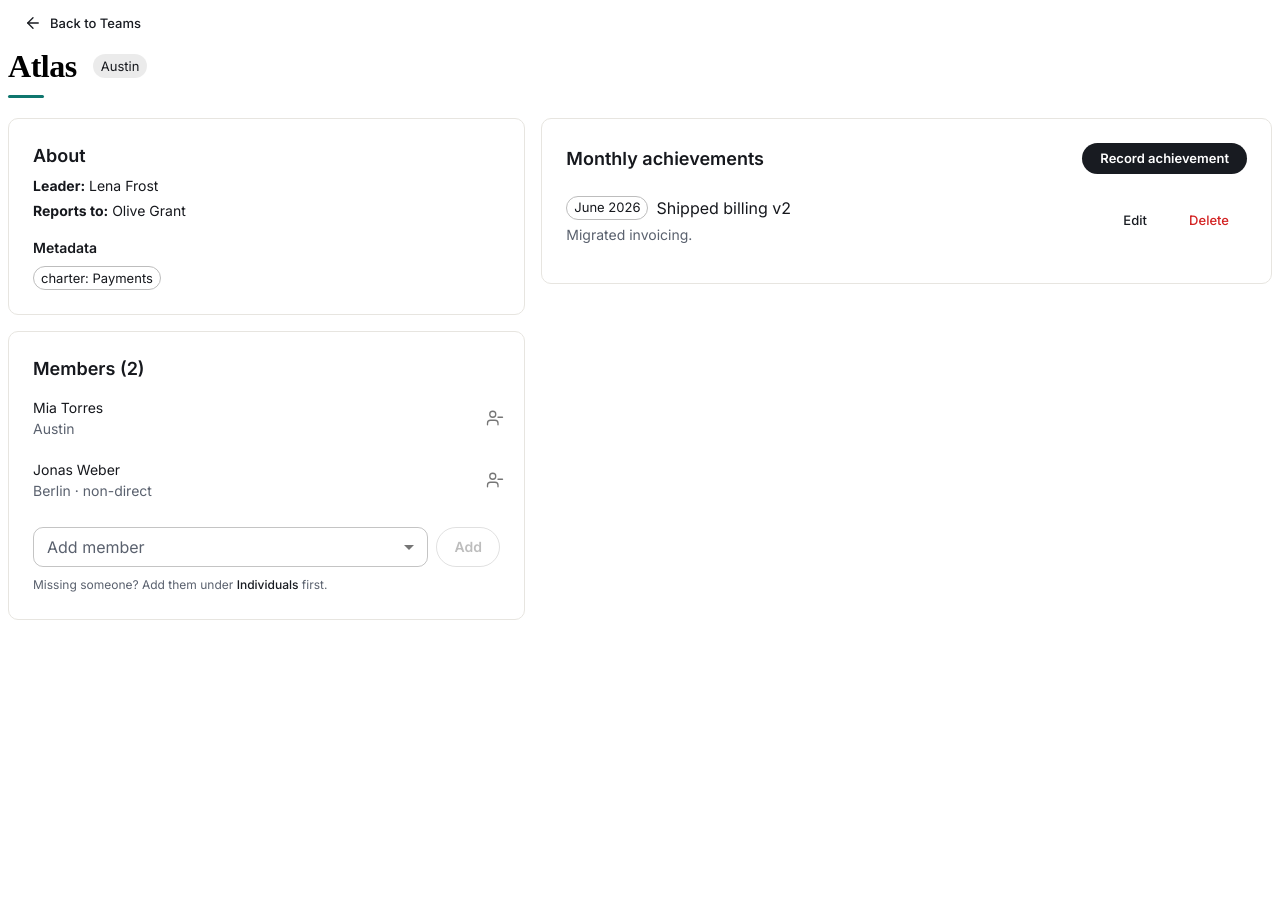
Scenario: TeamDetails page › adds a member picked from individuals not already on the roster
Expected: the heading "Atlas" is shown, [8, 47, 77, 85]
What coordinates should you click on to do the following:
click the dropdown named "Add member"
I would click on:
 (231, 547)
Its box is [33, 527, 428, 567].
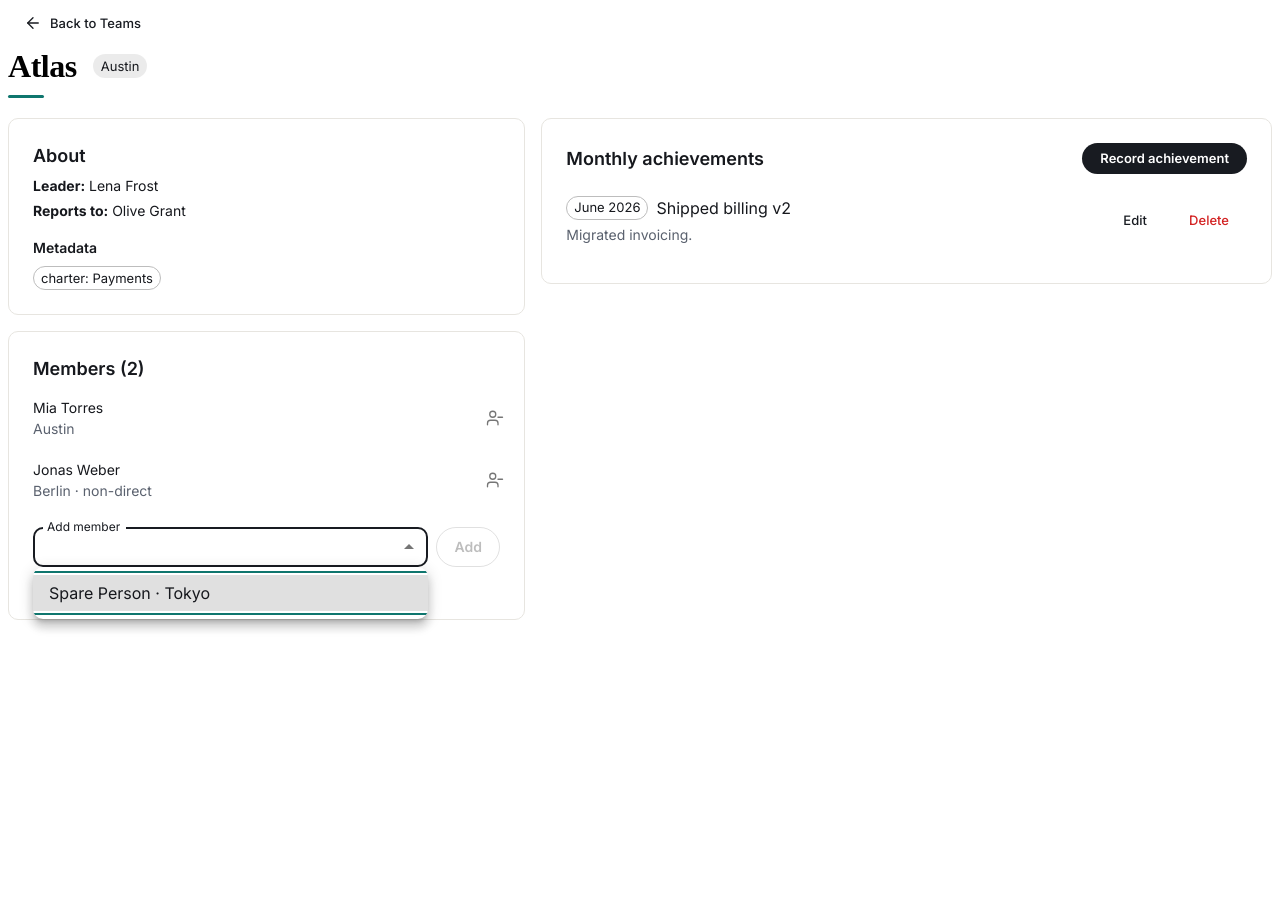
What coordinates should you click on to do the following:
click the option "Spare Person · Tokyo"
I would click on:
 (100, 593)
Its box is [33, 575, 428, 611].
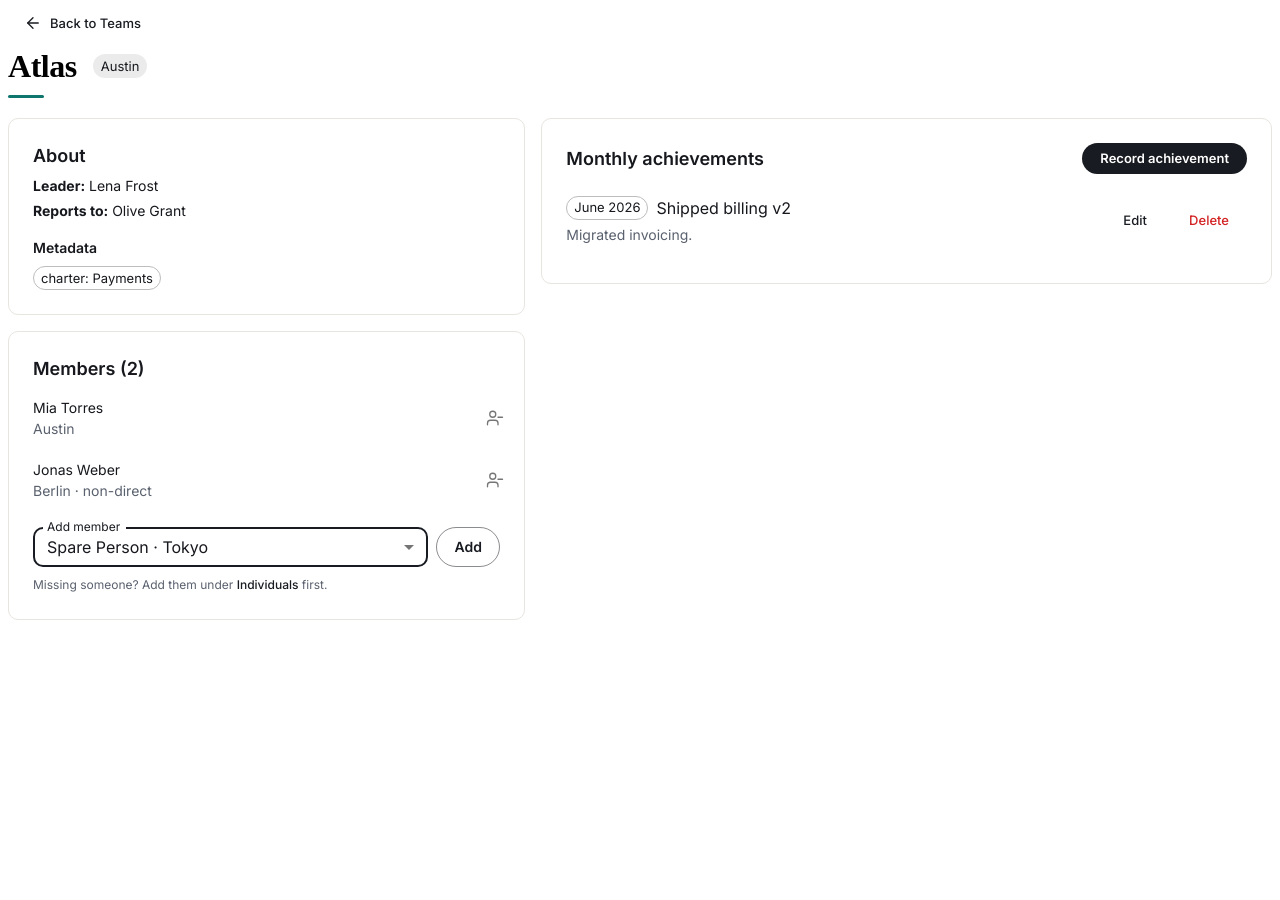
What coordinates should you click on to do the following:
click the button "Add"
I would click on:
 (468, 547)
Its box is [436, 527, 500, 567].
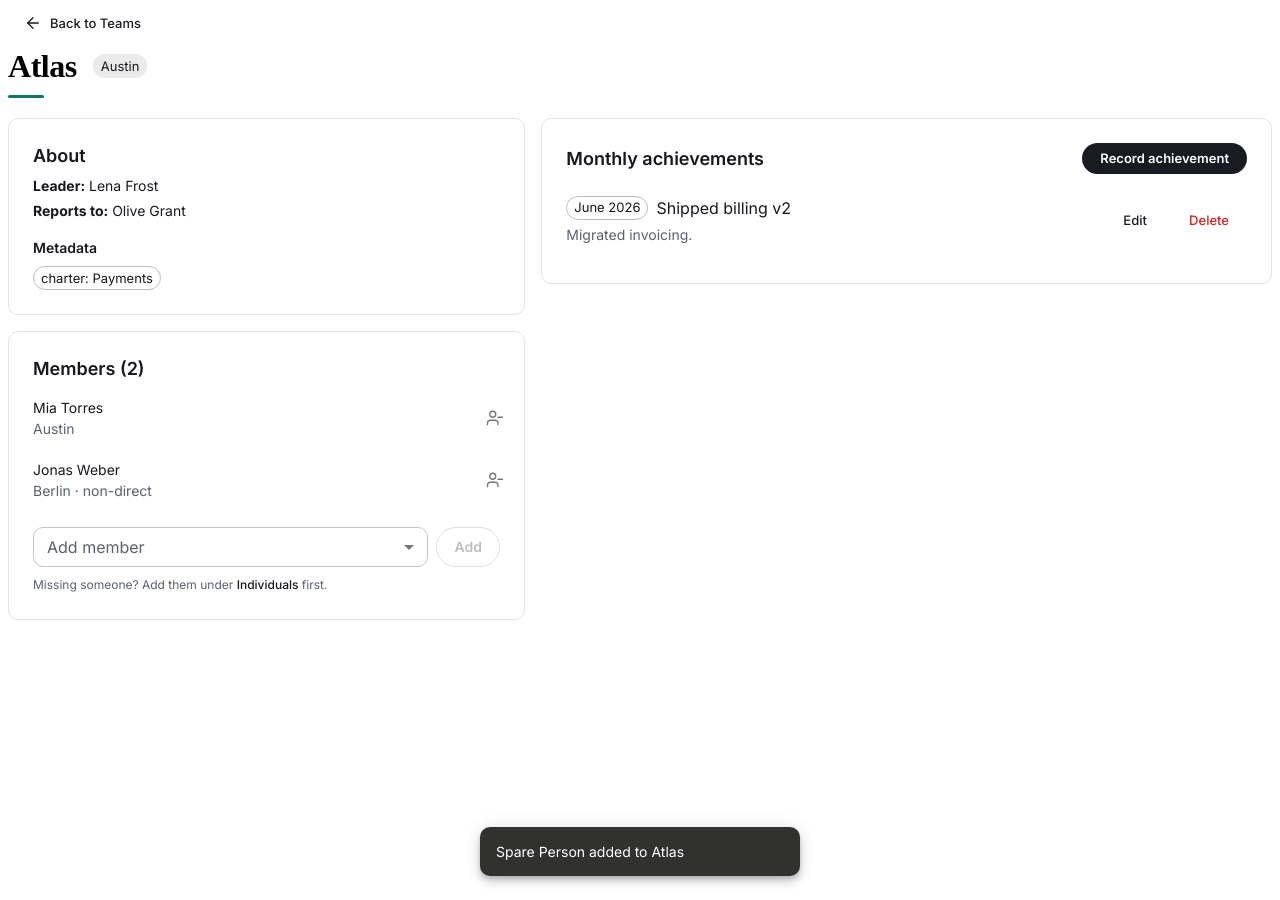
Expected: the text "Spare Person added to Atlas" is shown, [496, 843, 684, 860]
